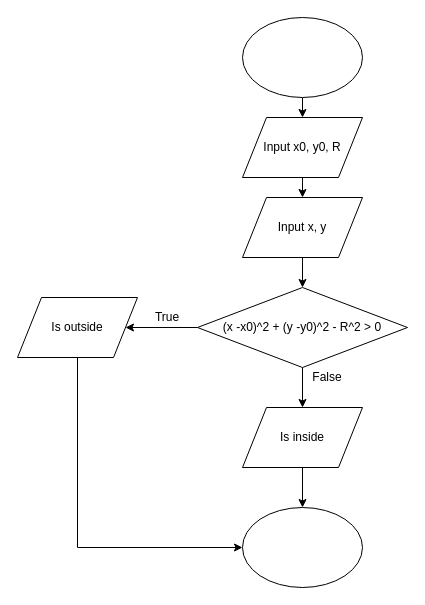
The diagram is 425 pixels wide and 605 high, and some of its shapes have lost their labels. Each missing label, with the centre of its shape:
"End" goes at point (302, 547).
"Start" goes at point (302, 57).
